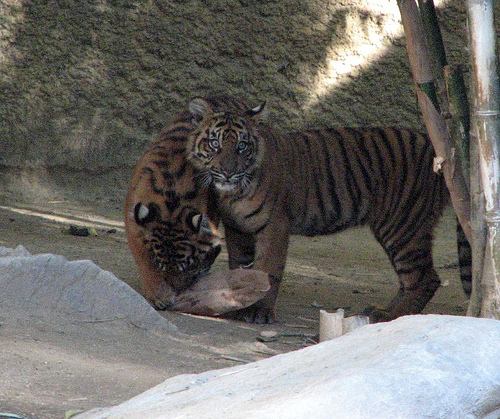Tigre: (184, 97, 458, 316), (118, 175, 215, 317)
